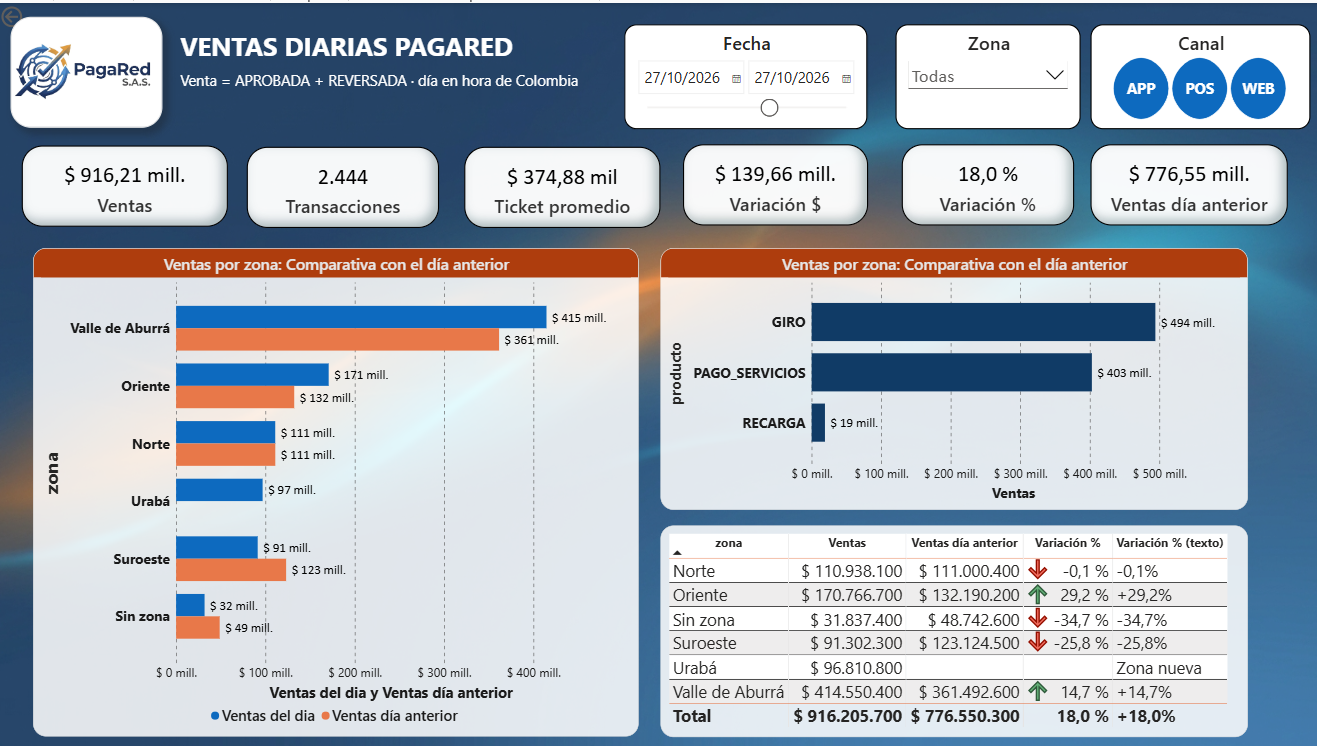

This screenshot's page, from the dashboard's own definition file:
{"tool":"powerbi","page":{"name":"Resumen ventas 27/10","canvas":[1920,1080],"ordinal":0},"visuals":[{"type":"actionButton","box":[0,0,100,40],"z":0},{"type":"textbox","box":[258,30,618,106],"z":1000},{"type":"image","box":[18,20,220.3,161.2],"z":2000},{"type":"card","fields":{"Values":["Medidas.Ventas"]},"box":[34.4,206.3,298.6,117.6],"z":3000},{"type":"slicer","title":"Fecha","fields":{"Values":["dim_fecha.fecha"]},"box":[906,30,352,152],"z":4000},{"type":"slicer","title":"Zona","fields":{"Values":["dim_punto.zona"]},"box":[1300,30,268,152],"z":5000},{"type":"advancedSlicerVisual","title":"Canal","fields":{"Values":["dim_canal.canal"]},"box":[1582,30,318,152],"z":6000},{"type":"card","fields":{"Values":["Medidas.Transacciones"]},"box":[360.1,208.1,278.7,117.6],"z":7000},{"type":"clusteredBarChart","title":"Ventas por zona: Comparativa con el día anterior","fields":{"Category":["dim_punto.zona"],"Y":["Medidas.Ventas","Medidas.Ventas día anterior"]},"box":[51,354.8,877.2,707.1],"z":8000},{"type":"clusteredBarChart","title":"Ventas por zona: Comparativa con el día anterior","fields":{"Category":["dim_producto.producto"],"Y":["Medidas.Ventas"]},"box":[959.8,354.8,850.4,379],"z":9000},{"type":"card","fields":{"Values":["Medidas.Ticket promedio"]},"box":[675,208.1,284.1,117.6],"z":10000},{"type":"card","fields":{"Values":["Medidas.Variación $"]},"box":[991.7,204.5,267.8,117.6],"z":11000},{"type":"card","fields":{"Values":["Medidas.Variación %"]},"box":[1308.4,204.5,249.7,117.6],"z":12000},{"type":"tableEx","fields":{"Values":["dim_punto.zona","Medidas.Ventas","Medidas.Ventas día anterior","Medidas.Variación %","Medidas.Variación % (texto)"]},"box":[959.8,755.7,850.4,306.2],"z":13000},{"type":"card","fields":{"Values":["Medidas.Ventas día anterior"]},"box":[1581.6,204.5,285.9,117.6],"z":14000}]}

Visuals, with their boxes in screenshot pixels (x1, y1, x2, y2), scaled from the page's 1920x1080 canvas onto the 1317x746 screenshot:
actionButton: {"x1": 0, "y1": 0, "x2": 69, "y2": 28}
textbox: {"x1": 177, "y1": 21, "x2": 601, "y2": 94}
image: {"x1": 12, "y1": 14, "x2": 163, "y2": 125}
card - Medidas.Ventas: {"x1": 24, "y1": 142, "x2": 228, "y2": 224}
"Fecha" slicer: {"x1": 621, "y1": 21, "x2": 863, "y2": 126}
"Zona" slicer: {"x1": 892, "y1": 21, "x2": 1076, "y2": 126}
"Canal" advancedSlicerVisual: {"x1": 1085, "y1": 21, "x2": 1303, "y2": 126}
card - Medidas.Transacciones: {"x1": 247, "y1": 144, "x2": 438, "y2": 225}
"Ventas por zona: Comparativa con el día anterior" clusteredBarChart: {"x1": 35, "y1": 245, "x2": 637, "y2": 733}
"Ventas por zona: Comparativa con el día anterior" clusteredBarChart: {"x1": 658, "y1": 245, "x2": 1242, "y2": 507}
card - Medidas.Ticket promedio: {"x1": 463, "y1": 144, "x2": 658, "y2": 225}
card - Medidas.Variación $: {"x1": 680, "y1": 141, "x2": 864, "y2": 222}
card - Medidas.Variación %: {"x1": 897, "y1": 141, "x2": 1069, "y2": 222}
tableEx - dim_punto.zona x Medidas.Ventas: {"x1": 658, "y1": 522, "x2": 1242, "y2": 733}
card - Medidas.Ventas día anterior: {"x1": 1085, "y1": 141, "x2": 1281, "y2": 222}
